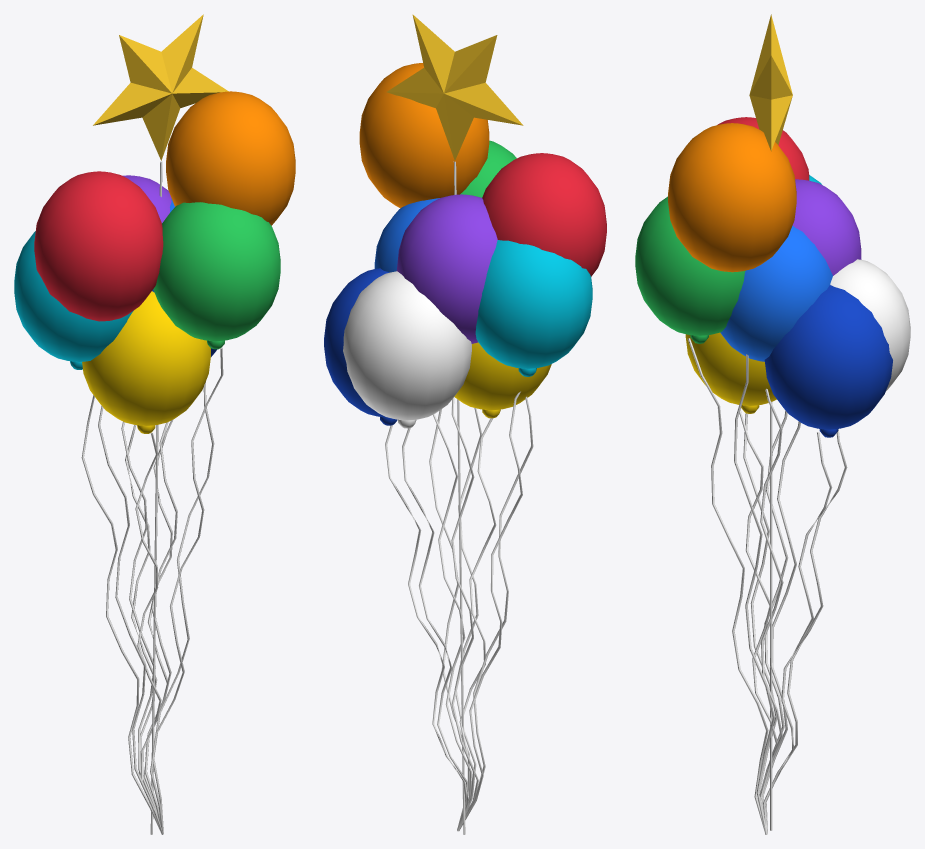
File: tclaws-balloons-v1.glb
3 views of the same model, side by side, from view 1: azimuth 30°, elevation 25°; view 2: azimuth 150°, elevation 25°; view 3: azimuth 270°, elevation 25° (orthographic).
Parts seen in each view (by area): view 1: model; view 2: model; view 3: model.
Boxes of the visible parts, x1,y1,x2,y2 form: model: [14, 14, 295, 834]; model: [324, 14, 606, 834]; model: [635, 14, 910, 834].
Size of the model in its own units: 1.27 by 4.06 by 1.26.
